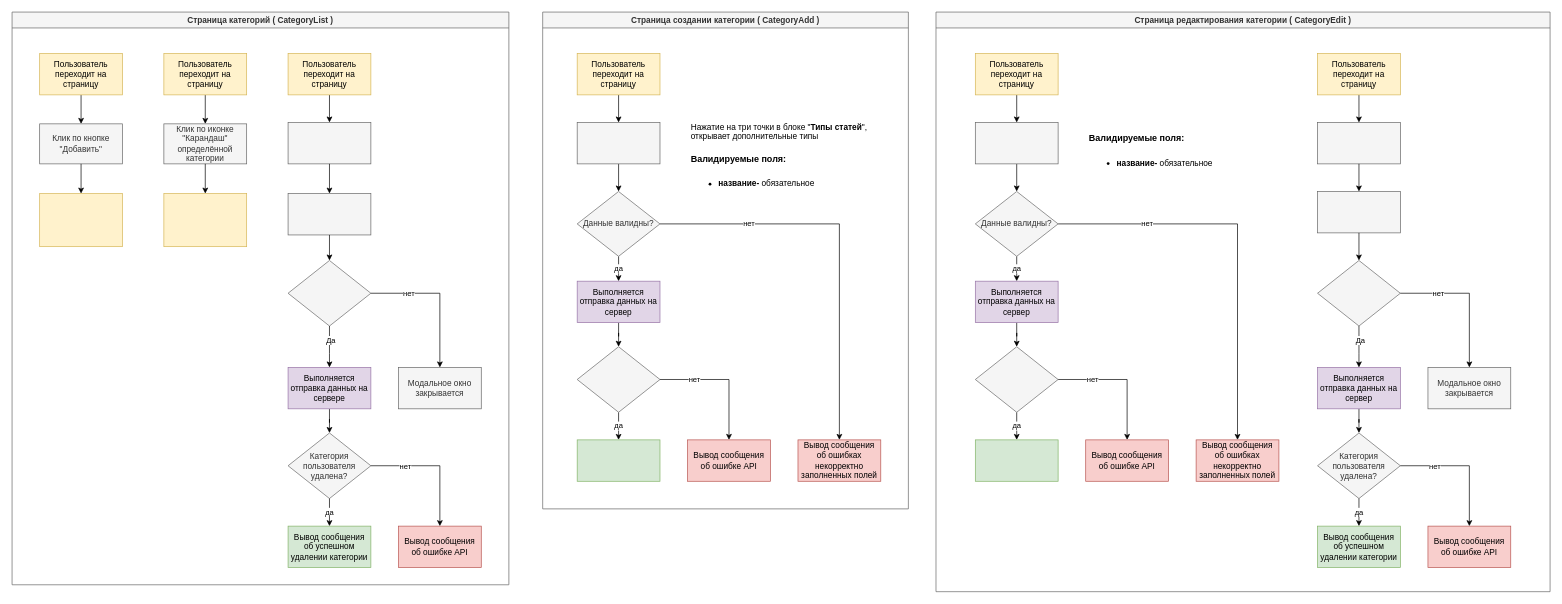
Some shapes in this 1562 by 604 pixel diagram are drawn without their labels. The shapes that lost their labels are listed below. From the top down, each one's centre as x and y in pixels, then its label:
point (329, 143): Клик по иконке "Корзина"
point (618, 143): Заполнение данных и отправка формы
point (1016, 143): Изменение данных и отправка формы
point (1358, 143): Пользователь нажимает на кнопку "Ещё" и выбирает удаление
point (80, 220): Перенаправле-ние на страницу добавления категории ( CategoryAdd)
point (205, 220): Перенаправле-ние на страницу редактирования категории ( CategoryEdit)
point (329, 214): Всплывает модальное окно
point (1358, 212): Всплывает модальное окно с подтверждением
point (329, 293): Пользователь подтверждает удаление?
point (1358, 293): Пользователь подтвердил удаление?
point (618, 379): Категория пользователя создана?
point (1016, 379): Данные пользователя обновлены?
point (618, 460): Вывод сообщения об успешном создании категории
point (1016, 460): Вывод сообщения об успешном обновлении категории
